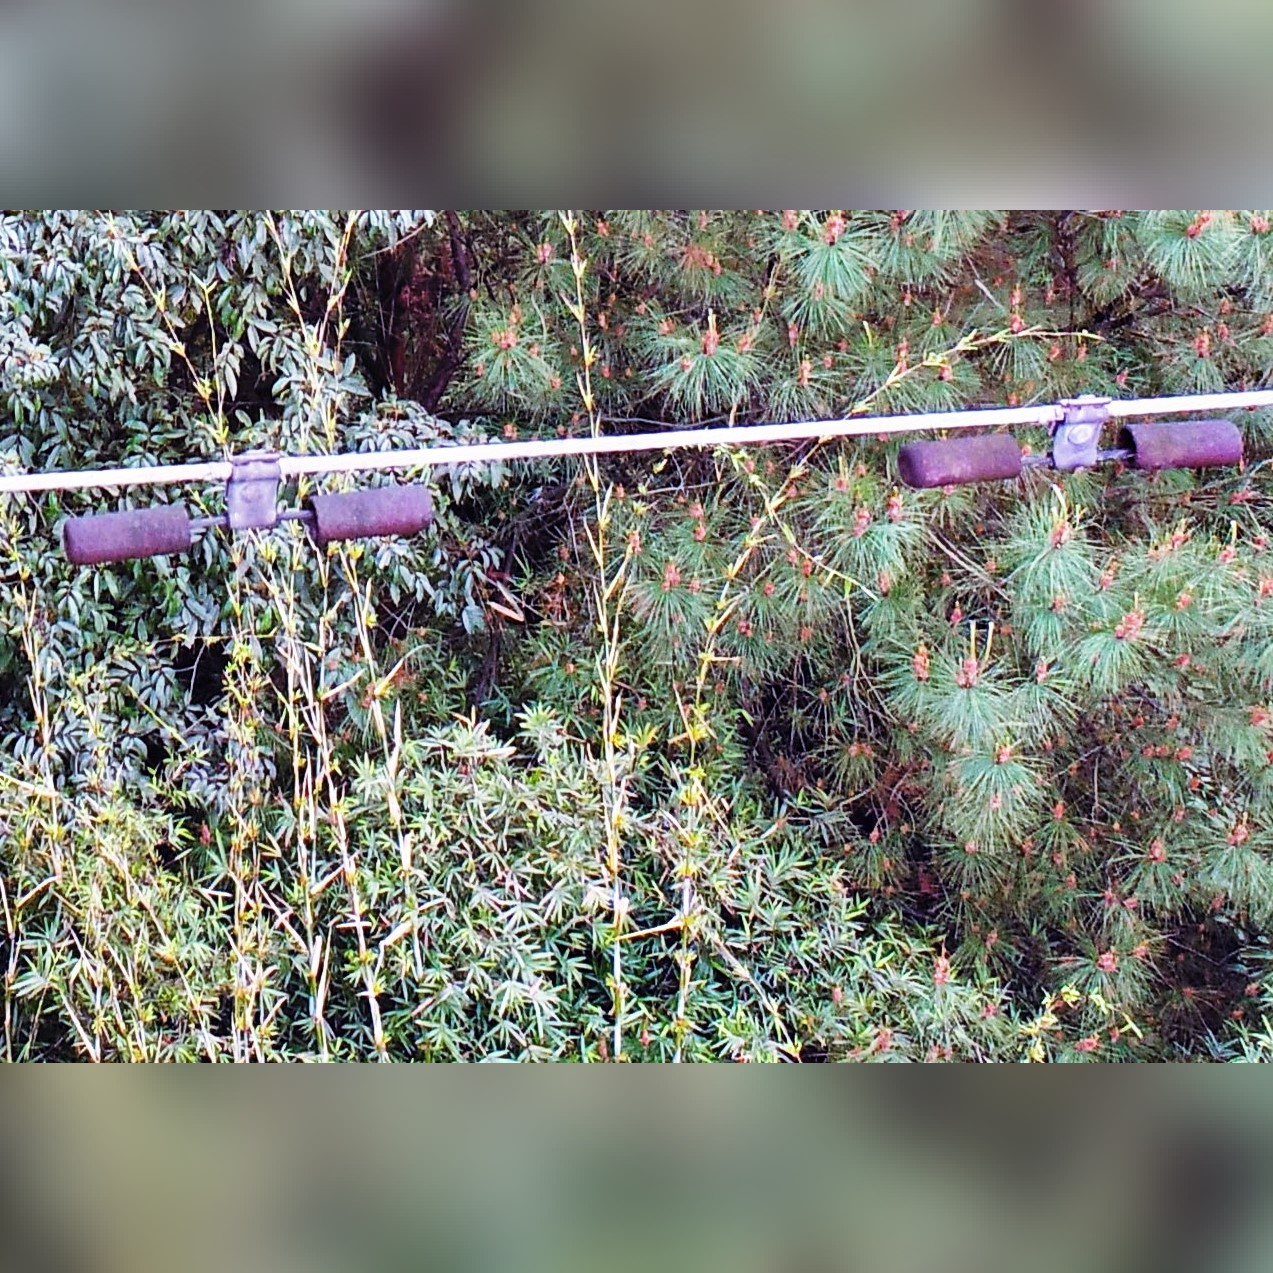Shockproof hammer: (57, 428, 445, 575), (881, 368, 1257, 501)
